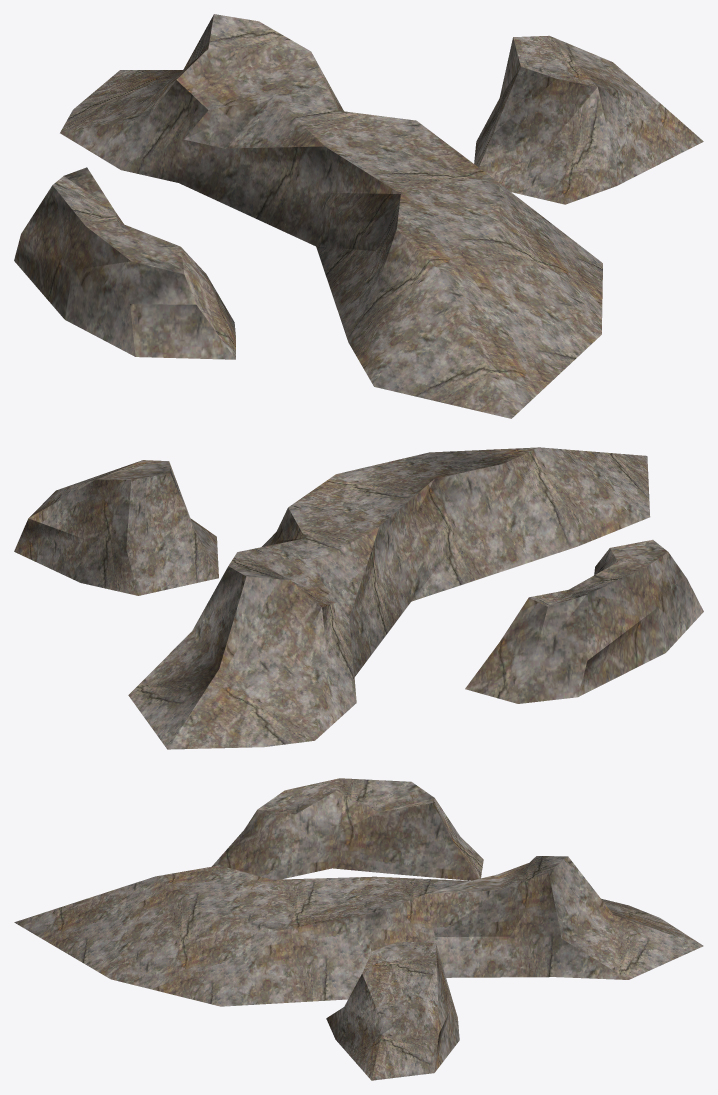
File: RckM03.glb
3 renders of one model, top to bottom at view 1: azimuth 30°, elevation 25°; view 2: azimuth 150°, elevation 25°; view 3: azimuth 270°, elevation 25°, orthographic. The views are drawn at different scales.
Visible parts, largest first — view 1: _RckM03; view 2: _RckM03; view 3: _RckM03.
Boxes of the visible parts, bbox=[...] form: _RckM03: bbox=[14, 14, 703, 418]; _RckM03: bbox=[14, 447, 703, 749]; _RckM03: bbox=[14, 778, 703, 1080].
Size of the model in its own units: 21.88 by 3.81 by 26.08.
Materials: 1 (1 with a texture image).
